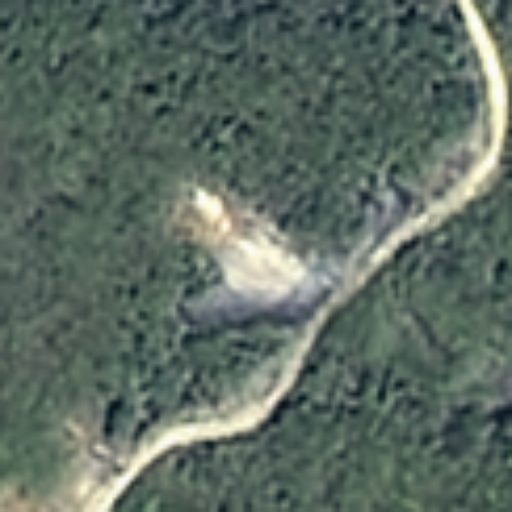landslide: (176, 184, 327, 305)
